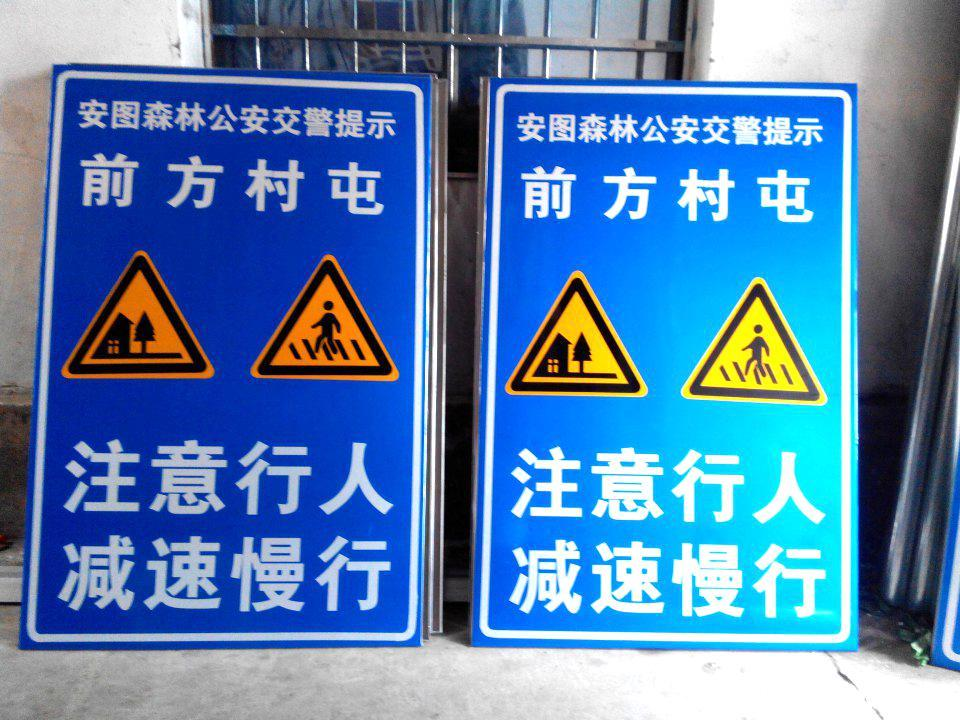sign: (51, 70, 416, 641), (493, 73, 849, 644)
